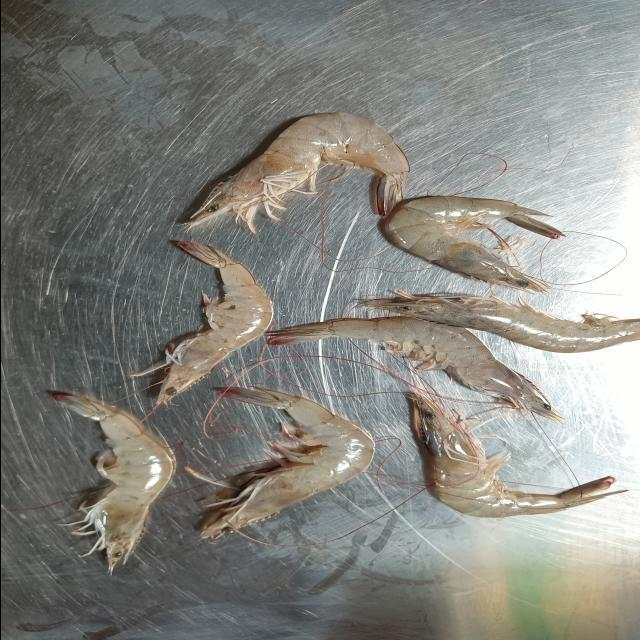shrimp: (268, 316, 563, 421), (184, 388, 372, 540), (408, 392, 625, 518), (188, 112, 408, 232), (126, 241, 273, 404), (53, 394, 173, 570), (383, 196, 563, 292), (361, 291, 640, 352), (374, 132, 379, 134)
